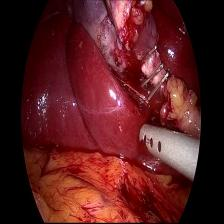Irrigator: (138, 119, 176, 174)
